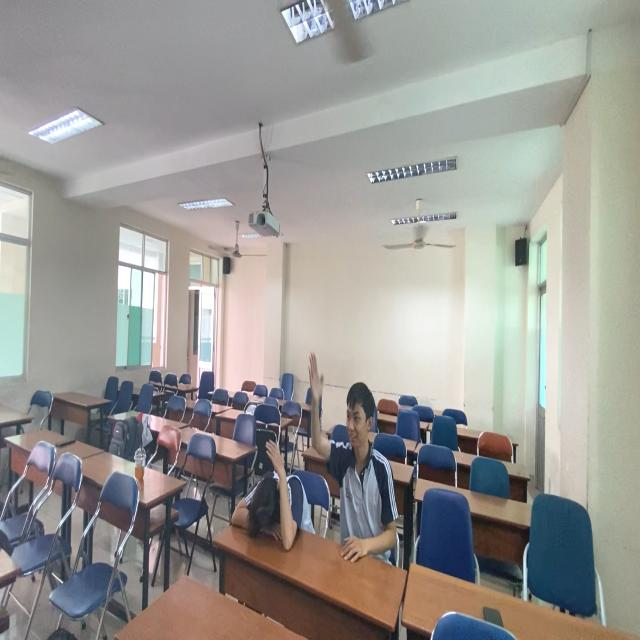raise_hand: (289, 345, 413, 597), (220, 416, 312, 585)
